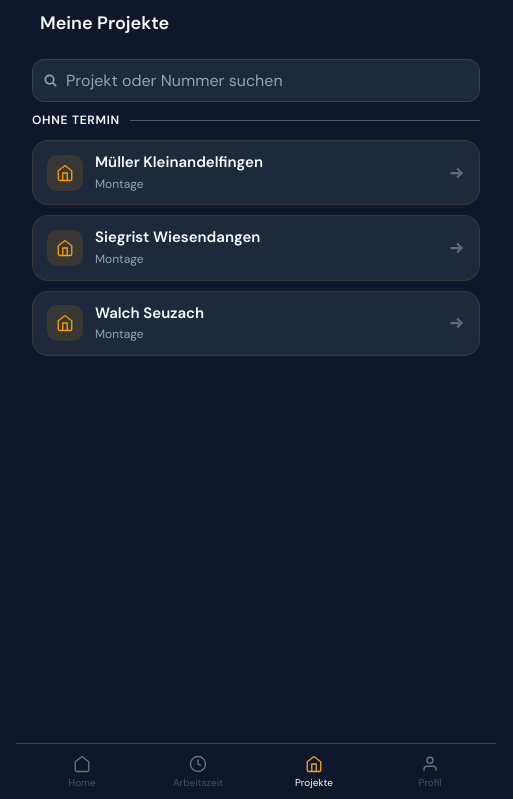
Scenario: ProjekteScreen — Suche über Name und Nummer › filtert die Kacheln nach dem Projektnamen
Expected: the text "Müller Kleinandelfingen" is shown, [95,152,263,172]
Type "siegrist" into the search field labelled "Projekt oder Nummer suchen" at (268, 80), box [66,60,469,101]
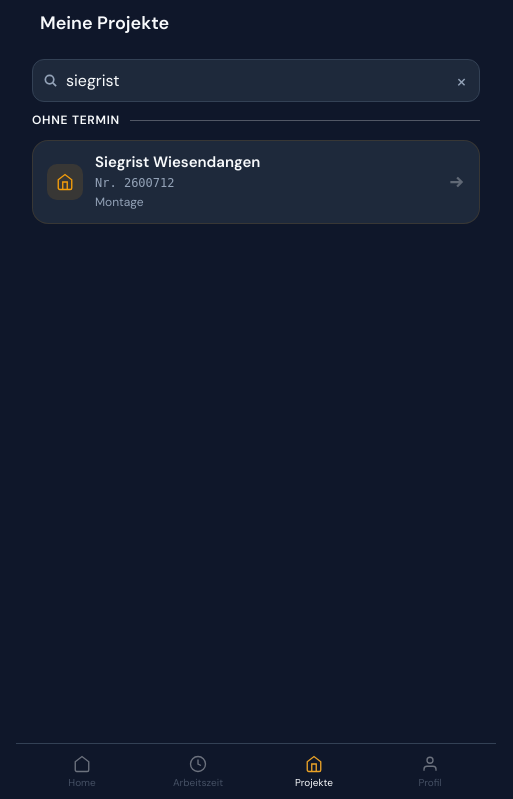
Expected: the text "Siegrist Wiesendangen" is shown, [95,152,260,172]
Now the text "Müller Kleinandelfingen" is gone
Now the text "Walch Seuzach" is gone
